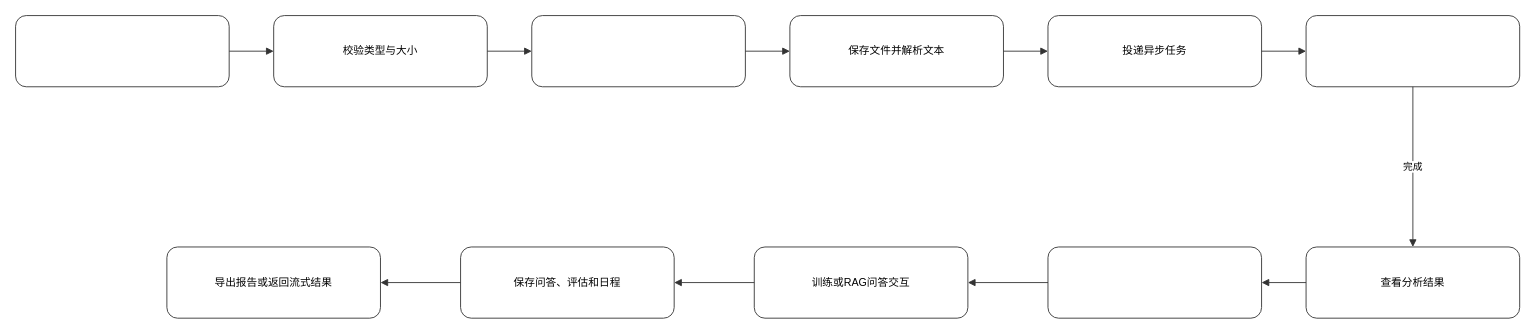
Image size: 1535x334. Some labels were removed from this diagram. Here are the shapes that lost their labels. From the top down, the centre of each, then its label:
(122,51): 上传简历/知识库文件
(638,51): 计算哈希并查重
(1412,51): AI分析/向量化
(1154,282): 选择训练方式
